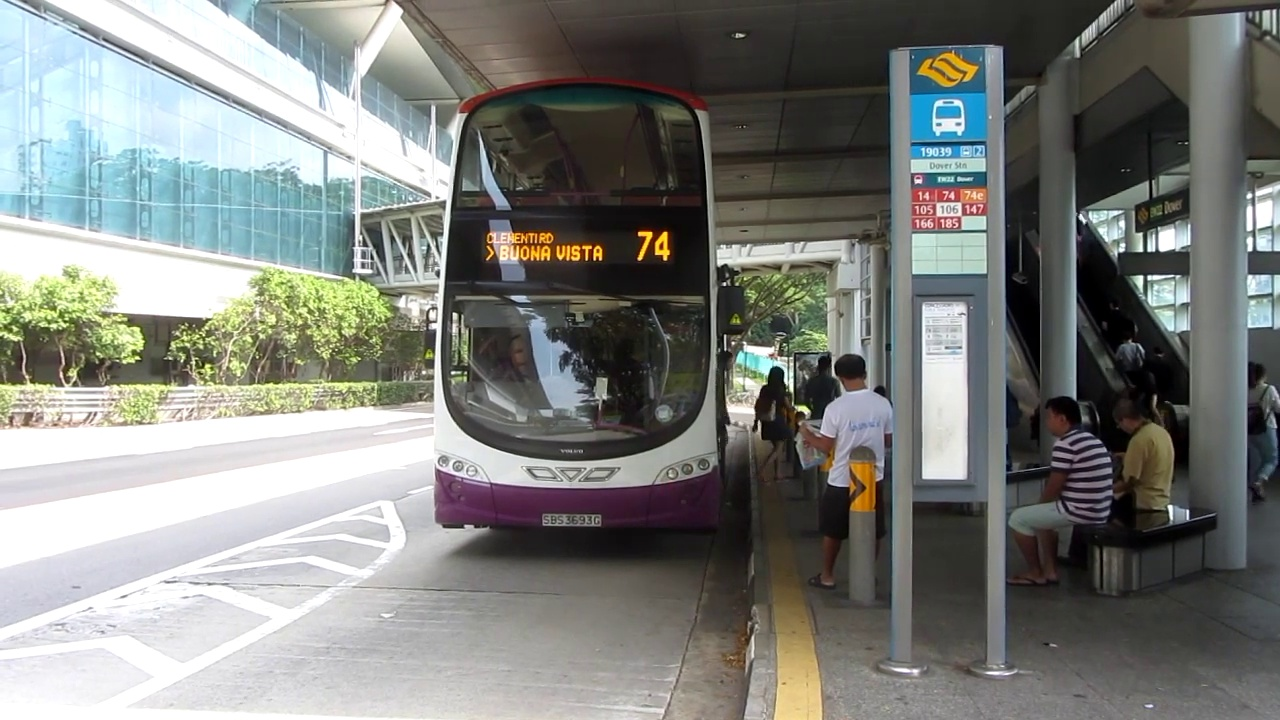bus panel: (477, 227, 677, 267)
